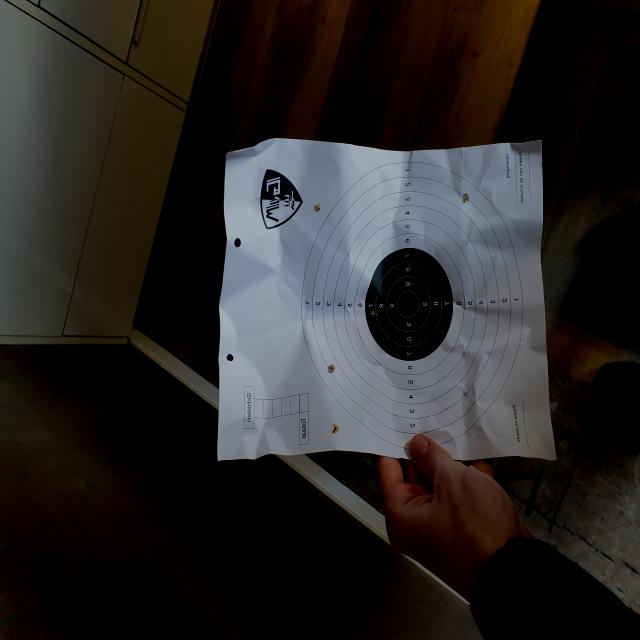0: (331, 422, 339, 433), (314, 203, 320, 212)
2: (462, 193, 469, 204), (328, 364, 335, 374)
8: (369, 308, 378, 320)
Target: (301, 160, 524, 444)
black_contour: (364, 248, 454, 360)
